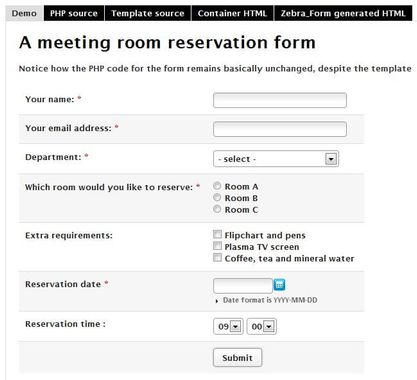_form_: (1, 1, 416, 380)
button: (212, 347, 263, 368)
checkbox: (212, 251, 222, 263), (213, 228, 223, 239), (212, 240, 222, 251)
checkbox_with_label: (211, 250, 356, 264), (211, 227, 306, 240), (212, 239, 300, 252)
field: (211, 120, 348, 137), (212, 92, 348, 108), (211, 277, 273, 294)
field_with_label: (26, 147, 342, 168), (26, 89, 349, 109), (26, 118, 349, 138), (24, 276, 275, 295), (25, 316, 244, 337)
radio: (212, 202, 222, 214), (213, 179, 222, 191), (212, 191, 221, 202)
radio_with_label: (211, 178, 258, 192), (211, 191, 258, 203), (211, 203, 258, 215)
select: (212, 149, 340, 167), (213, 317, 244, 336), (246, 318, 278, 336)
